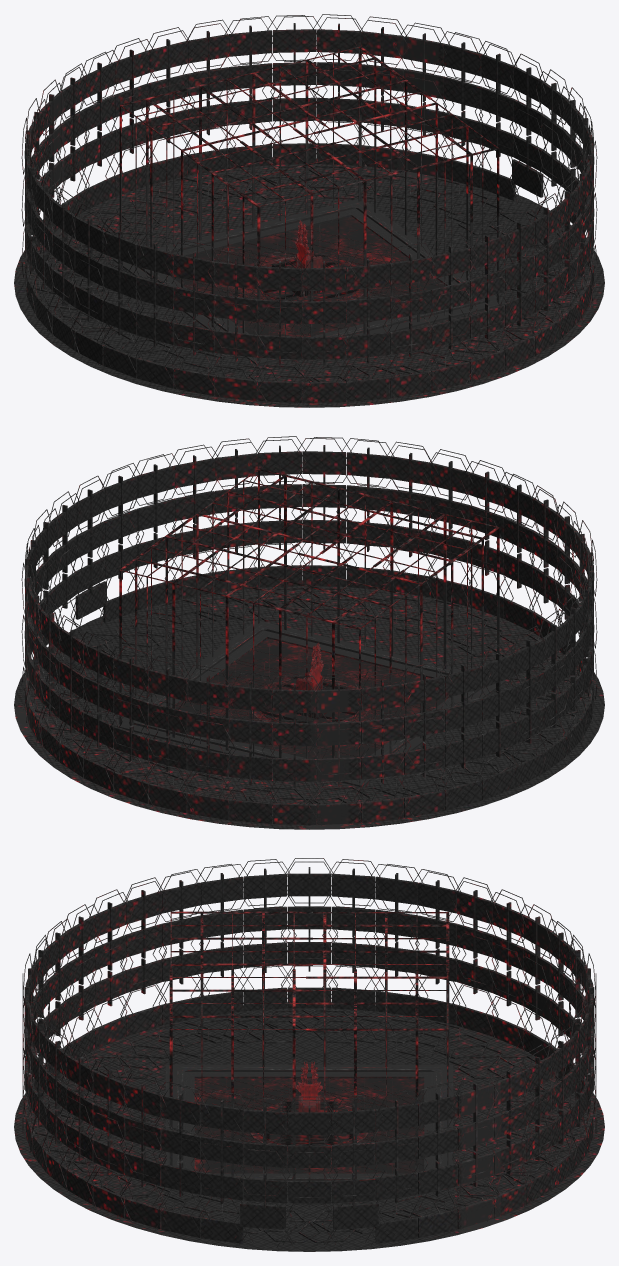
The model's file is env_throne.glb.
3 views of the same model, one above another, from view 1: azimuth 30°, elevation 25°; view 2: azimuth 150°, elevation 25°; view 3: azimuth 270°, elevation 25° (orthographic).
Visible parts, largest first — view 1: Throne_land_1__0; view 2: Throne_land_1__0; view 3: Throne_land_1__0.
Part boxes in pixels (bbox=[...]): Throne_land_1__0: bbox=[14, 14, 604, 407]; Throne_land_1__0: bbox=[14, 436, 604, 829]; Throne_land_1__0: bbox=[14, 858, 604, 1251].
Bounding box in the file's own units: 20.58 × 6.08 × 20.58.
1 material, 1 textured.
